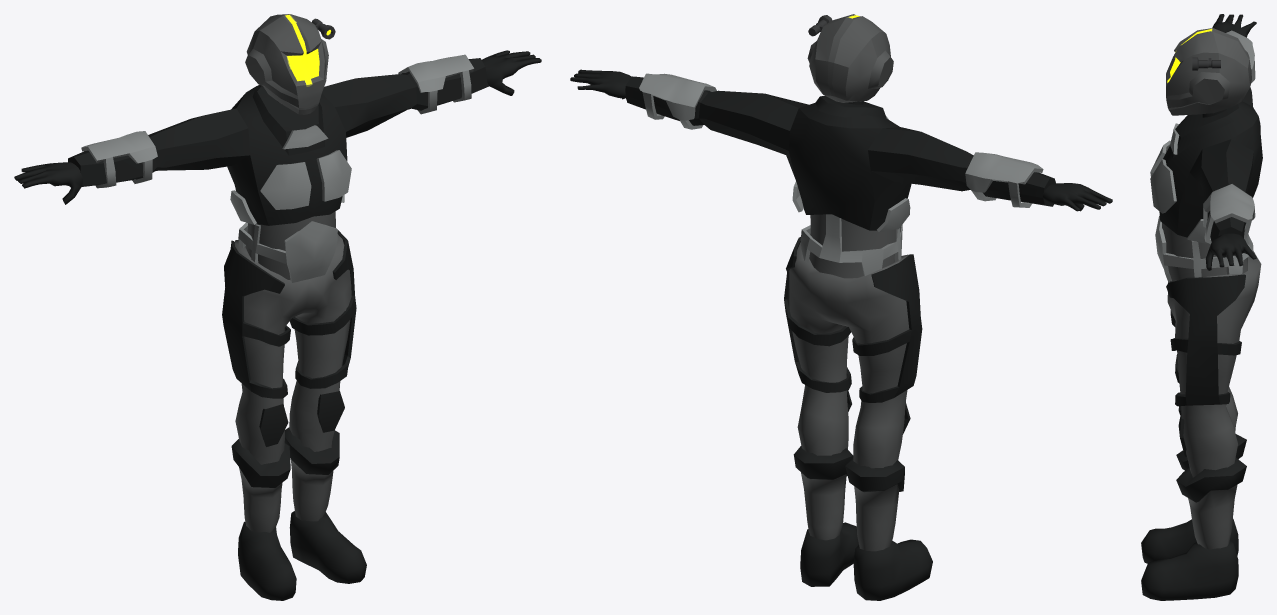
Rendered from marine_yellow.gltf.
3 renders of one model, left to right at view 1: azimuth 30°, elevation 25°; view 2: azimuth 150°, elevation 25°; view 3: azimuth 270°, elevation 25°, orthographic. The views are drawn at different scales.
Visible parts, largest first — view 1: pasted__polySurface1952, polySurface1296, polySurface1298, polySurface1308, polySurface1310, polySurface1307, polySurface1301, polySurface1313, polySurface1304, polySurface1309, polySurface1300, pCylinder1; view 2: pasted__polySurface1952, polySurface1296, polySurface1310, polySurface1308, polySurface1298, polySurface1307, polySurface1301, pCylinder1, polySurface1309, polySurface1304, polySurface1313; view 3: pasted__polySurface1952, polySurface1296, polySurface1308, polySurface1298, polySurface1307, polySurface1310, polySurface1301, polySurface1309, polySurface1304, polySurface1313, pCylinder1, pCylinder3 (+2 smaller).
Boxes of the visible parts, x1,y1,x2,y2 form: pasted__polySurface1952: [68, 58, 488, 225]; polySurface1296: [234, 234, 351, 464]; polySurface1298: [222, 228, 356, 398]; polySurface1308: [238, 511, 366, 600]; polySurface1310: [231, 427, 339, 532]; polySurface1307: [245, 14, 328, 114]; polySurface1301: [81, 54, 474, 188]; polySurface1313: [230, 150, 351, 224]; polySurface1304: [238, 221, 337, 282]; polySurface1309: [14, 50, 541, 204]; polySurface1300: [259, 391, 344, 446]; pCylinder1: [245, 211, 335, 279]; pasted__polySurface1952: [625, 76, 1055, 230]; polySurface1296: [789, 242, 909, 468]; polySurface1310: [793, 446, 904, 551]; polySurface1308: [800, 522, 932, 600]; polySurface1298: [784, 237, 922, 402]; polySurface1307: [807, 14, 893, 104]; polySurface1301: [639, 73, 1043, 207]; pCylinder1: [809, 214, 901, 278]; polySurface1309: [570, 69, 1112, 211]; polySurface1304: [800, 214, 902, 275]; polySurface1313: [792, 181, 910, 231]; pasted__polySurface1952: [1159, 30, 1262, 241]; polySurface1296: [1167, 251, 1261, 477]; polySurface1308: [1141, 519, 1238, 600]; polySurface1298: [1166, 274, 1245, 406]; polySurface1307: [1166, 28, 1251, 117]; polySurface1310: [1176, 433, 1246, 549]; polySurface1301: [1203, 30, 1255, 243]; polySurface1309: [1205, 14, 1256, 270]; polySurface1304: [1155, 216, 1253, 282]; polySurface1313: [1150, 140, 1210, 244]; pCylinder1: [1162, 223, 1247, 280]; pCylinder3: [1192, 57, 1220, 70].
Size of the model in its own units: 1.79 by 1.82 by 0.3684.
Materials: 1 (1 with a texture image).
